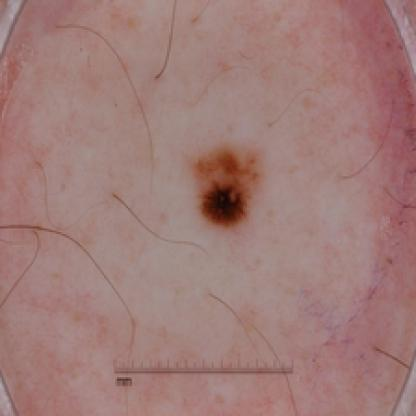malignant: (186, 134, 269, 236)
